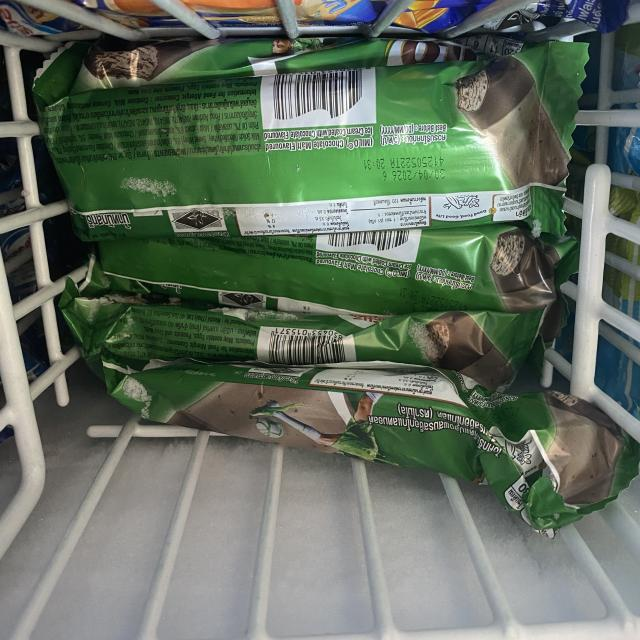plastik: (42, 42, 588, 240), (104, 361, 640, 534), (60, 285, 544, 390), (99, 224, 579, 315)
